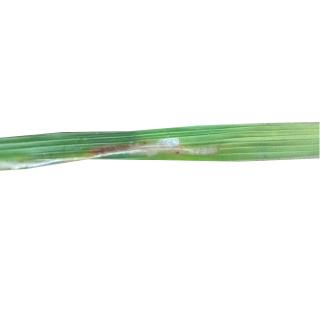Hawar-Daun: (86, 144, 220, 156), (157, 136, 181, 158), (1, 160, 54, 168)
